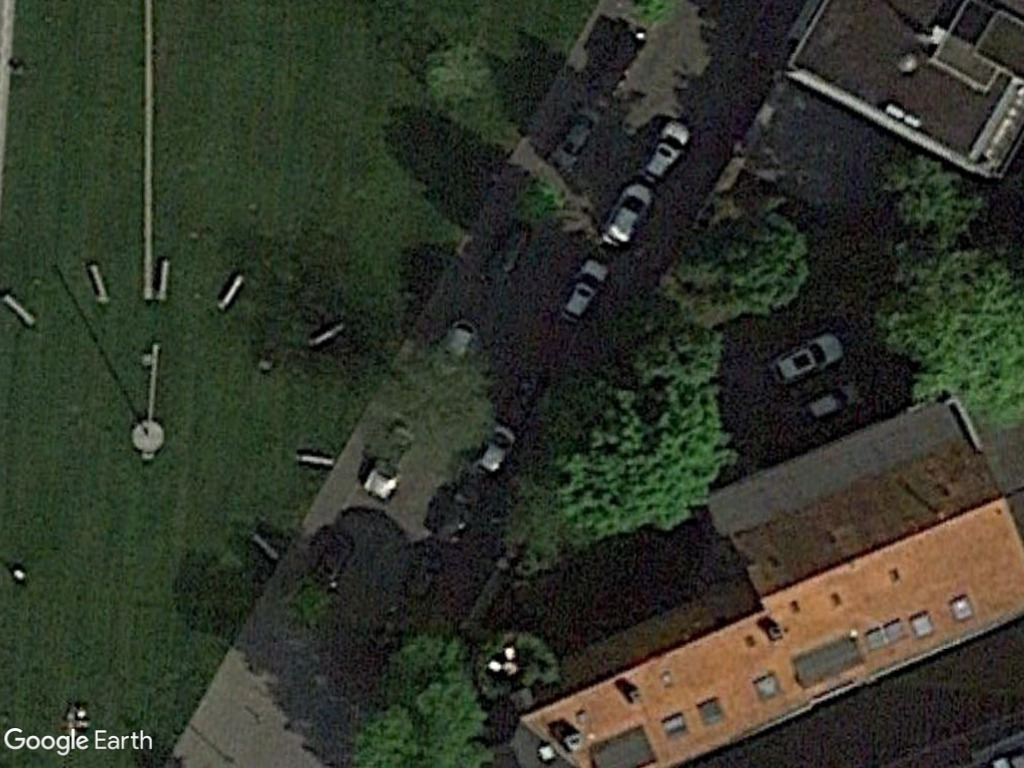car: (763, 326, 850, 390), (554, 250, 622, 331), (597, 180, 661, 255), (635, 116, 695, 186)
